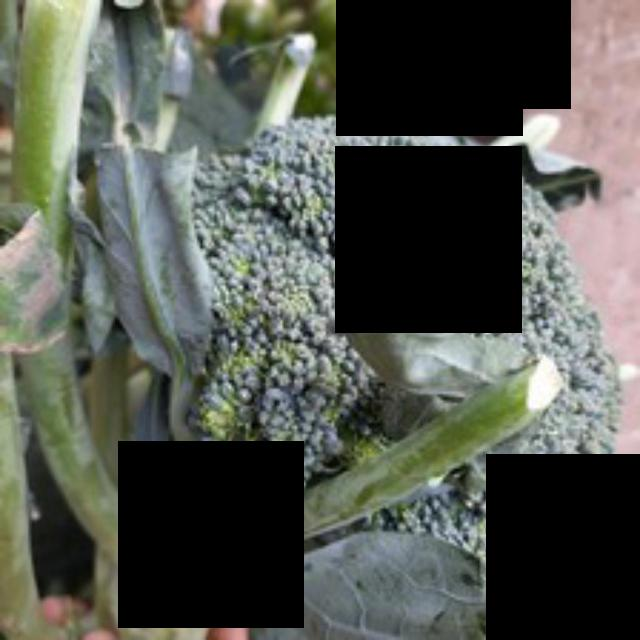broccoli: (123, 83, 638, 541)
